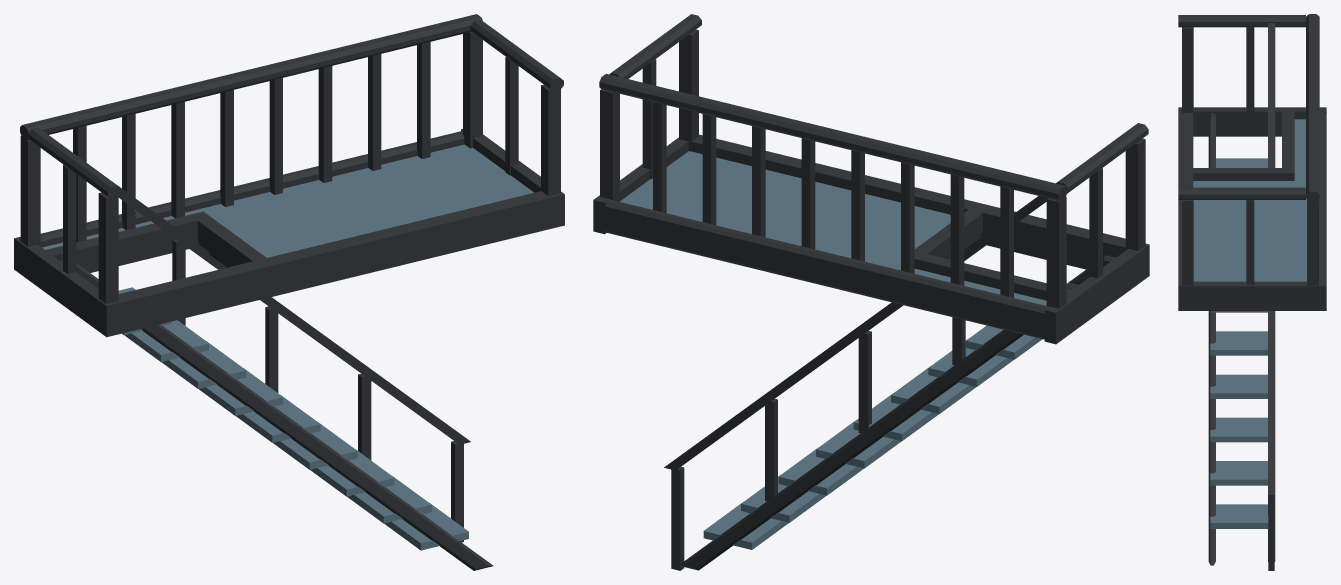
File: fire-escape-section-0b473a.glb
3 views of the same model, side by side, from view 1: azimuth 30°, elevation 25°; view 2: azimuth 150°, elevation 25°; view 3: azimuth 270°, elevation 25° (orthographic). The views are drawn at different scales.
Parts seen in each view (by area): view 1: fire-escape-body; view 2: fire-escape-body; view 3: fire-escape-body.
Part boxes in pixels (left/top/right/bottom): fire-escape-body: left=14, top=14, right=564, bottom=570; fire-escape-body: left=593, top=14, right=1149, bottom=570; fire-escape-body: left=1178, top=14, right=1326, bottom=570.
Size of the model in its own units: 4 by 4.13 by 1.4.
